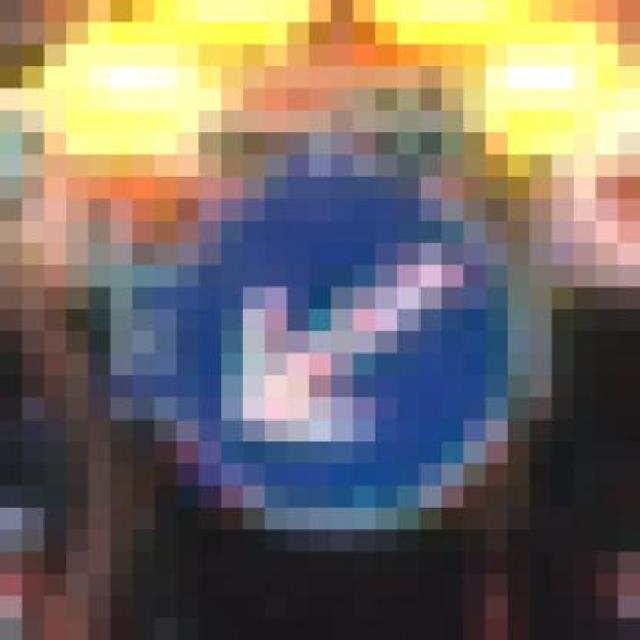Keep-Left: (154, 155, 574, 530)
